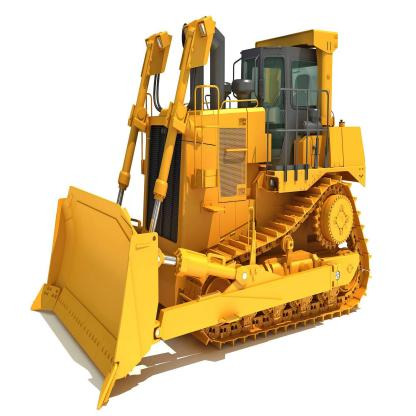bull_dozer/loader/grader: (43, 18, 390, 399)
